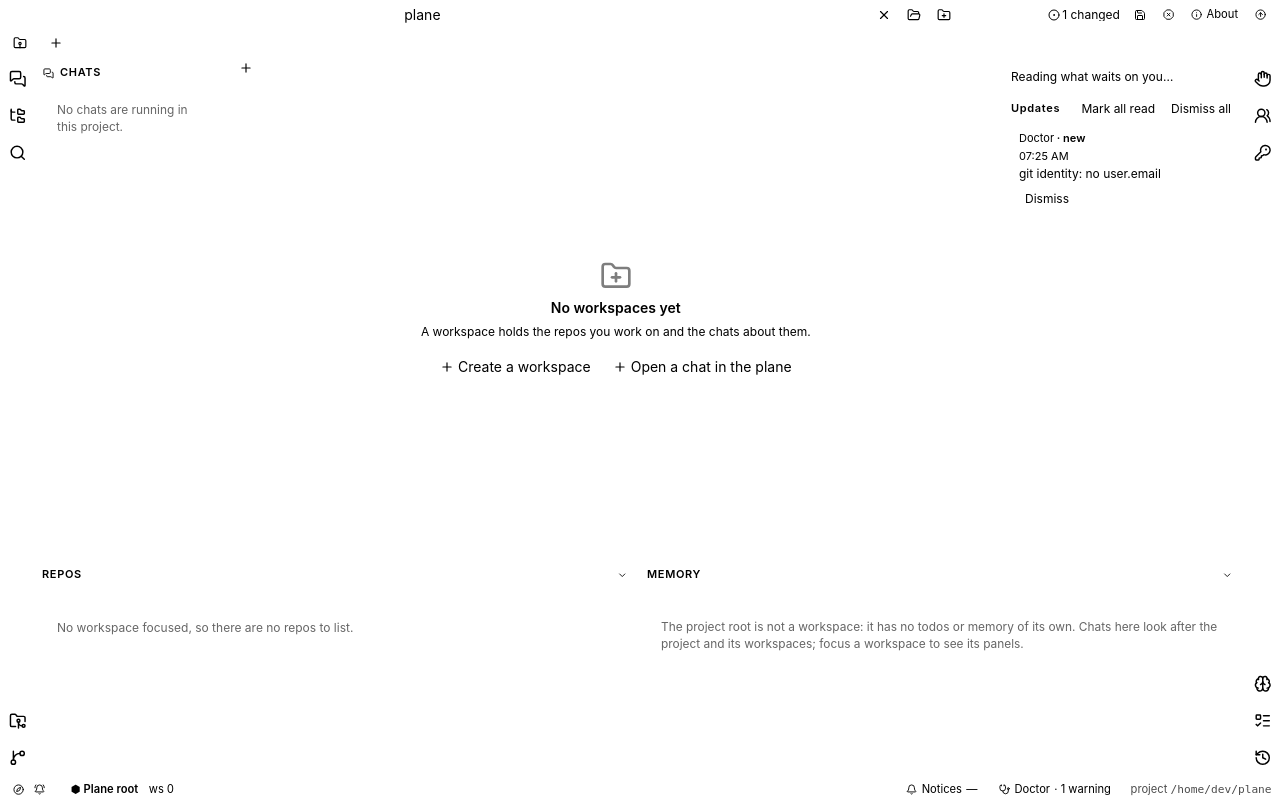
Test: a link into Settings › is drawn only on a doctor row that names a setting
Expected: the tab "plane" is shown, [8,0,848,29]
Click the button with test id "status-doctor" at (1055, 789), box [993,781,1116,798]
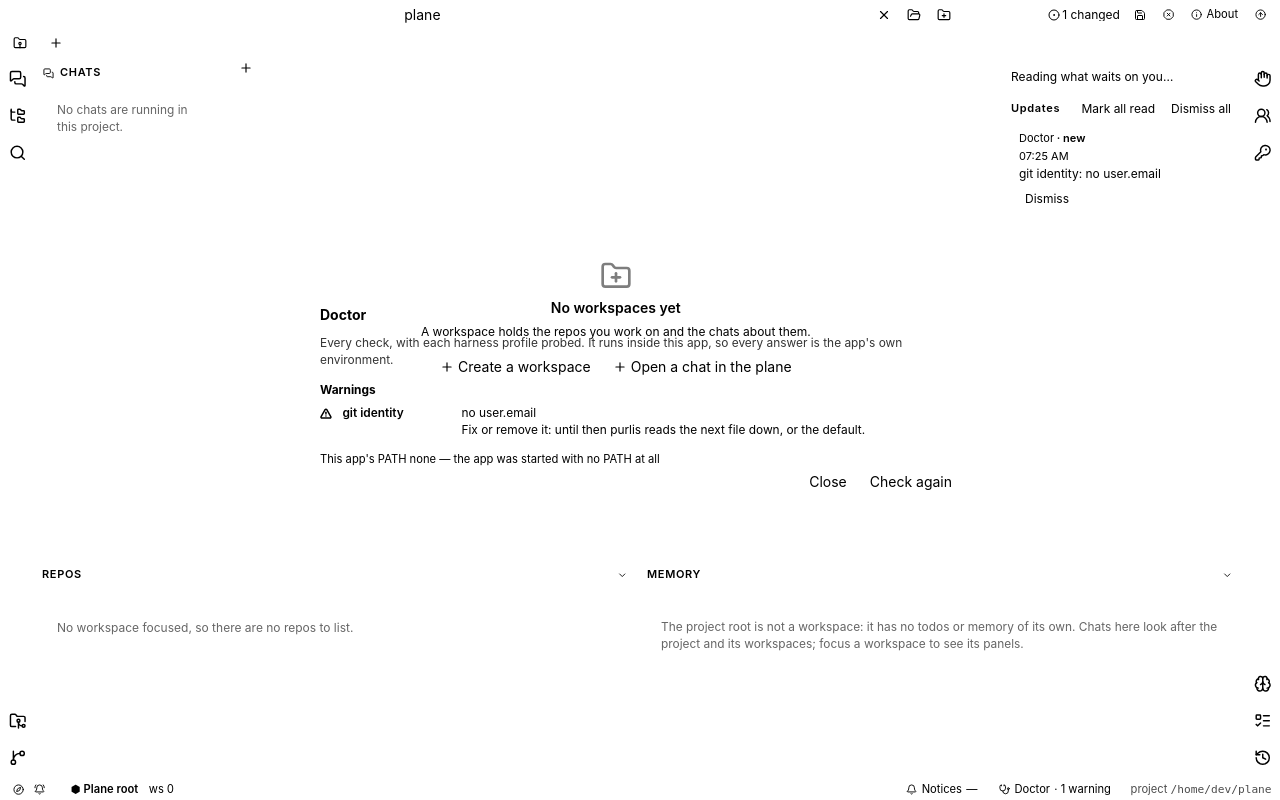
Expected: the text "no user.email" is shown, [461,405,536,420]
